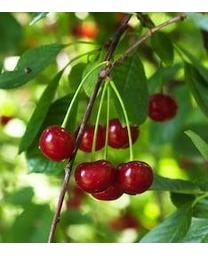cherry: (116, 160, 154, 197), (74, 160, 115, 193), (38, 126, 75, 161), (90, 170, 125, 201), (76, 119, 106, 152), (108, 118, 139, 149), (148, 93, 177, 122)
